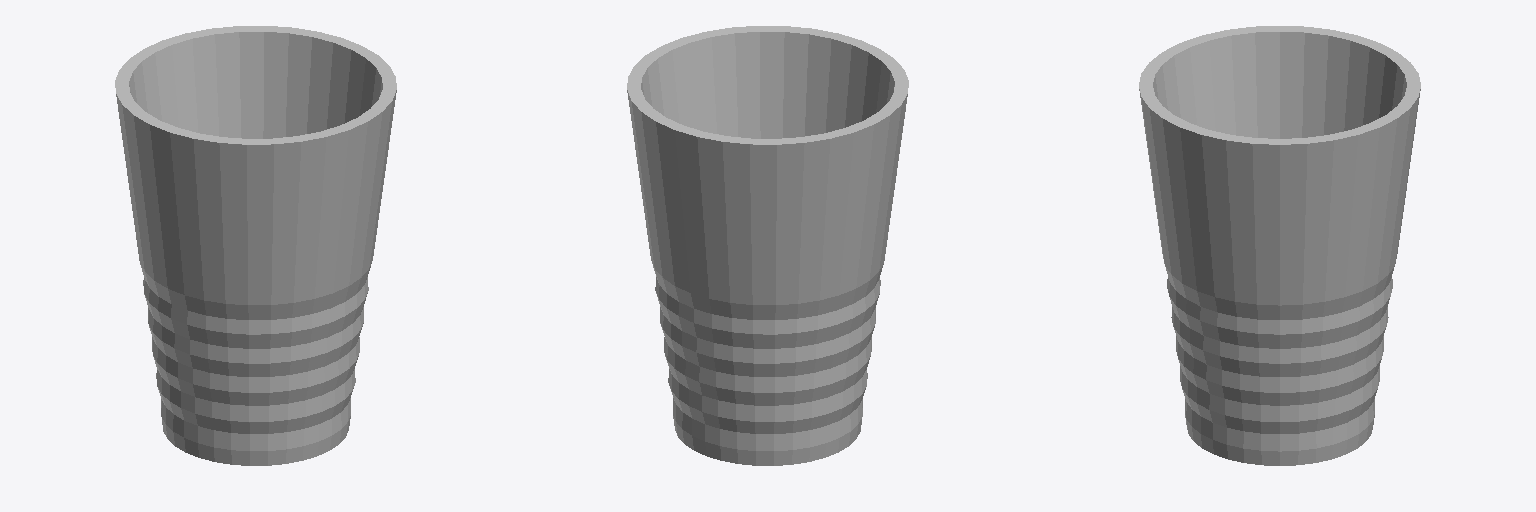
Rendered from Glass.obj.
3 renders of one model, left to right at view 1: azimuth 30°, elevation 25°; view 2: azimuth 150°, elevation 25°; view 3: azimuth 270°, elevation 25°, orthographic.
Visible parts, largest first — view 1: Glass_Cylinder; view 2: Glass_Cylinder; view 3: Glass_Cylinder.
Boxes of the visible parts, box(x1,y1,x2,y2) form: Glass_Cylinder: box(115, 26, 396, 465); Glass_Cylinder: box(627, 26, 908, 465); Glass_Cylinder: box(1139, 26, 1420, 465).
Bounding box in the file's own units: 1.5 × 2 × 1.5.